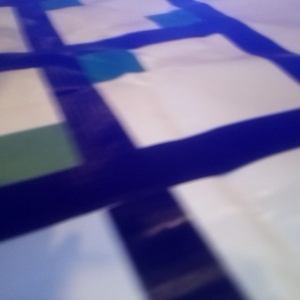bottom_left: (129, 1, 204, 32)
bottom_right: (173, 1, 252, 30)
top_left: (100, 106, 221, 199)
